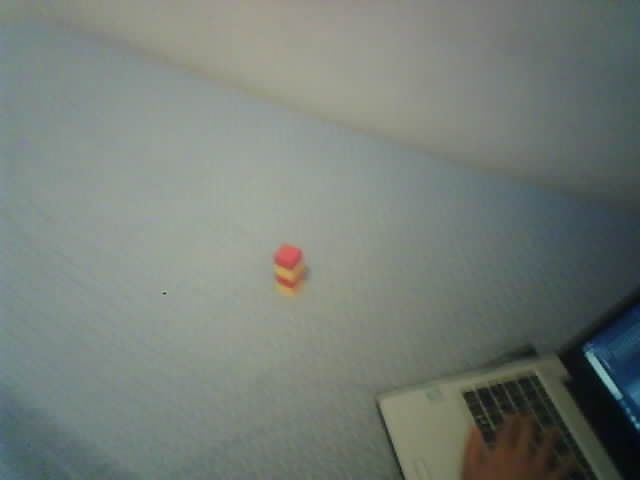lego: (271, 242, 305, 297)
